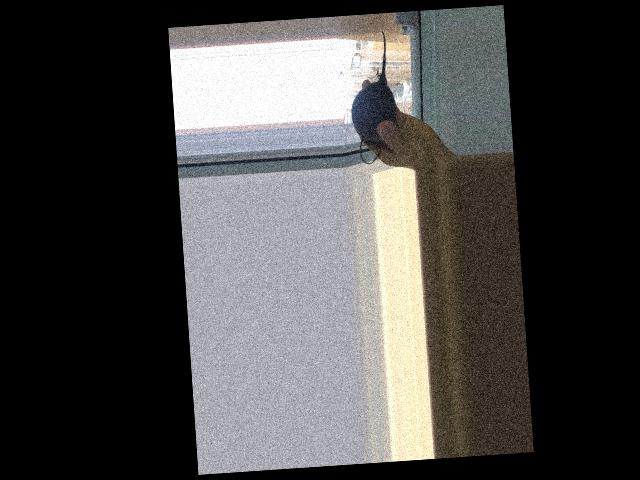beet: (346, 30, 400, 164)
